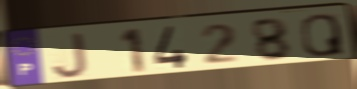1: (119, 26, 149, 75)
2: (200, 22, 240, 67)
4: (153, 24, 190, 70)
8: (250, 16, 293, 62)
J: (50, 31, 90, 80)
Q: (299, 12, 347, 59)
